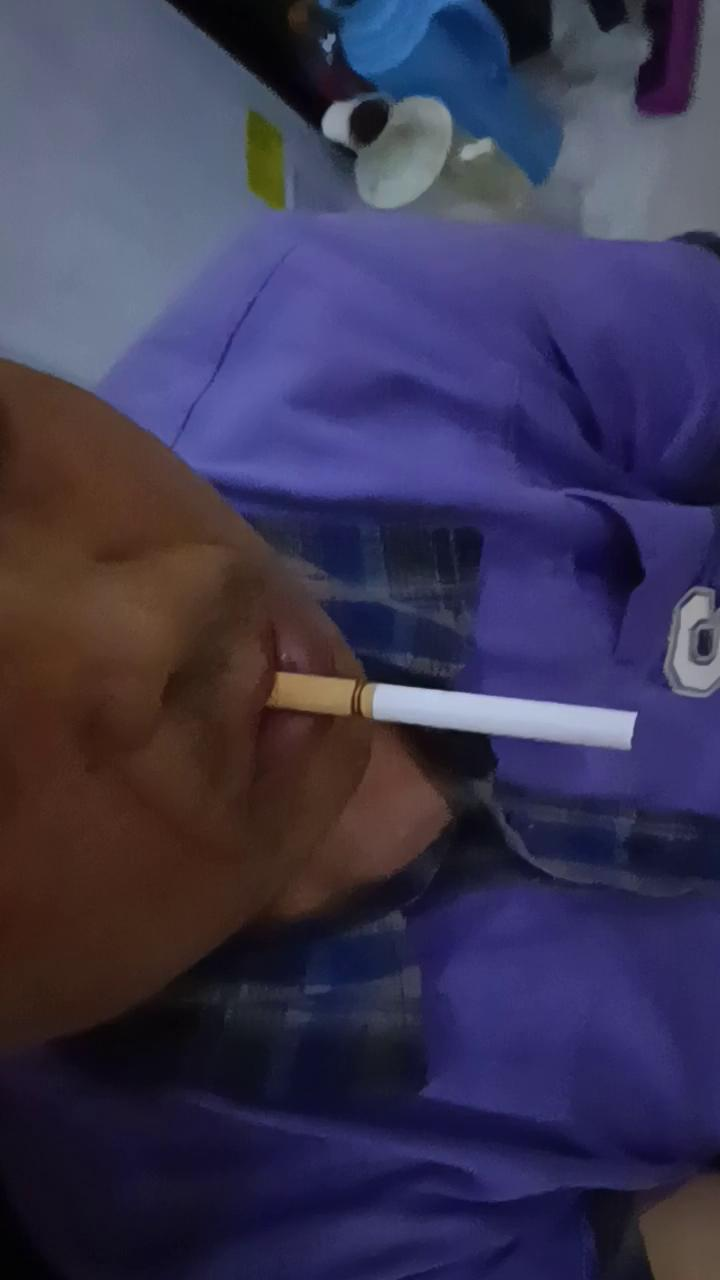smoke: (268, 670, 647, 754)
